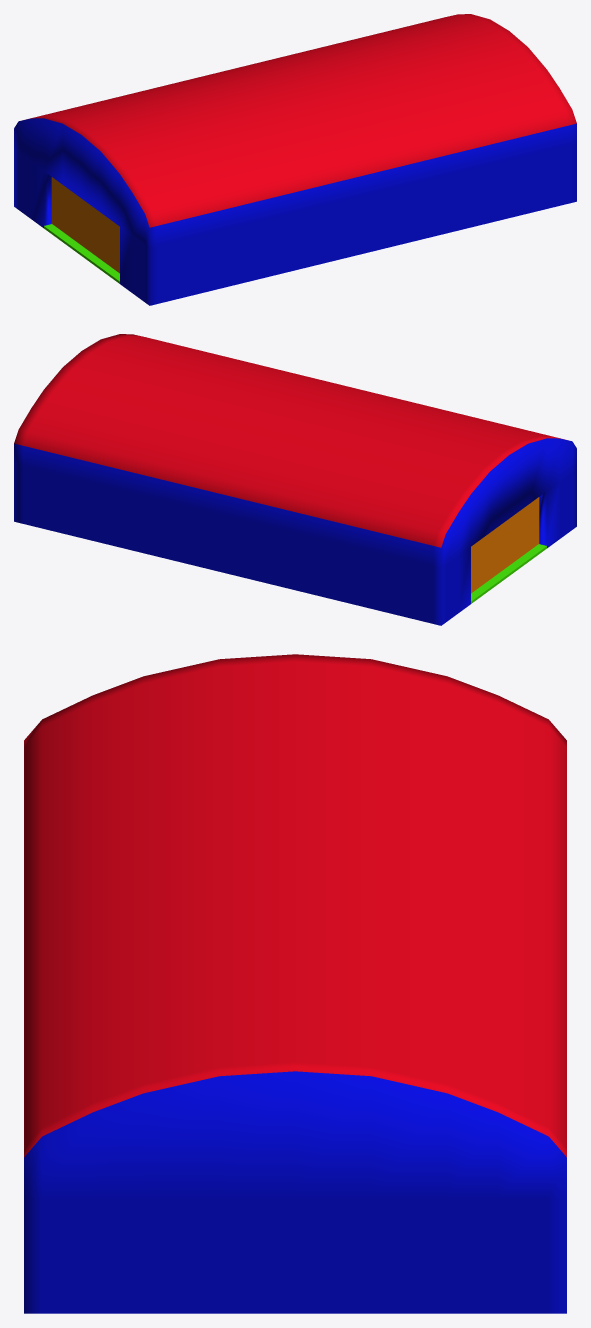
Rendered from Hangar.glb.
3 views of the same model, one above another, from view 1: azimuth 30°, elevation 25°; view 2: azimuth 150°, elevation 25°; view 3: azimuth 270°, elevation 25° (orthographic). The views are drawn at different scales.
Parts seen in each view (by area): view 1: Hangar_Base, Door_Left, Door_Right; view 2: Hangar_Base, Door_Right, Door_Left; view 3: Hangar_Base.
Boxes of the visible parts, box(x1,y1,x2,y2) form: Hangar_Base: box(14, 14, 576, 305); Door_Left: box(51, 177, 90, 251); Door_Right: box(90, 205, 119, 273); Hangar_Base: box(14, 334, 576, 625); Door_Right: box(501, 497, 539, 571); Door_Left: box(471, 525, 500, 593); Hangar_Base: box(24, 654, 566, 1313).
Size of the model in its own units: 18.13 by 4.91 by 9.97.
